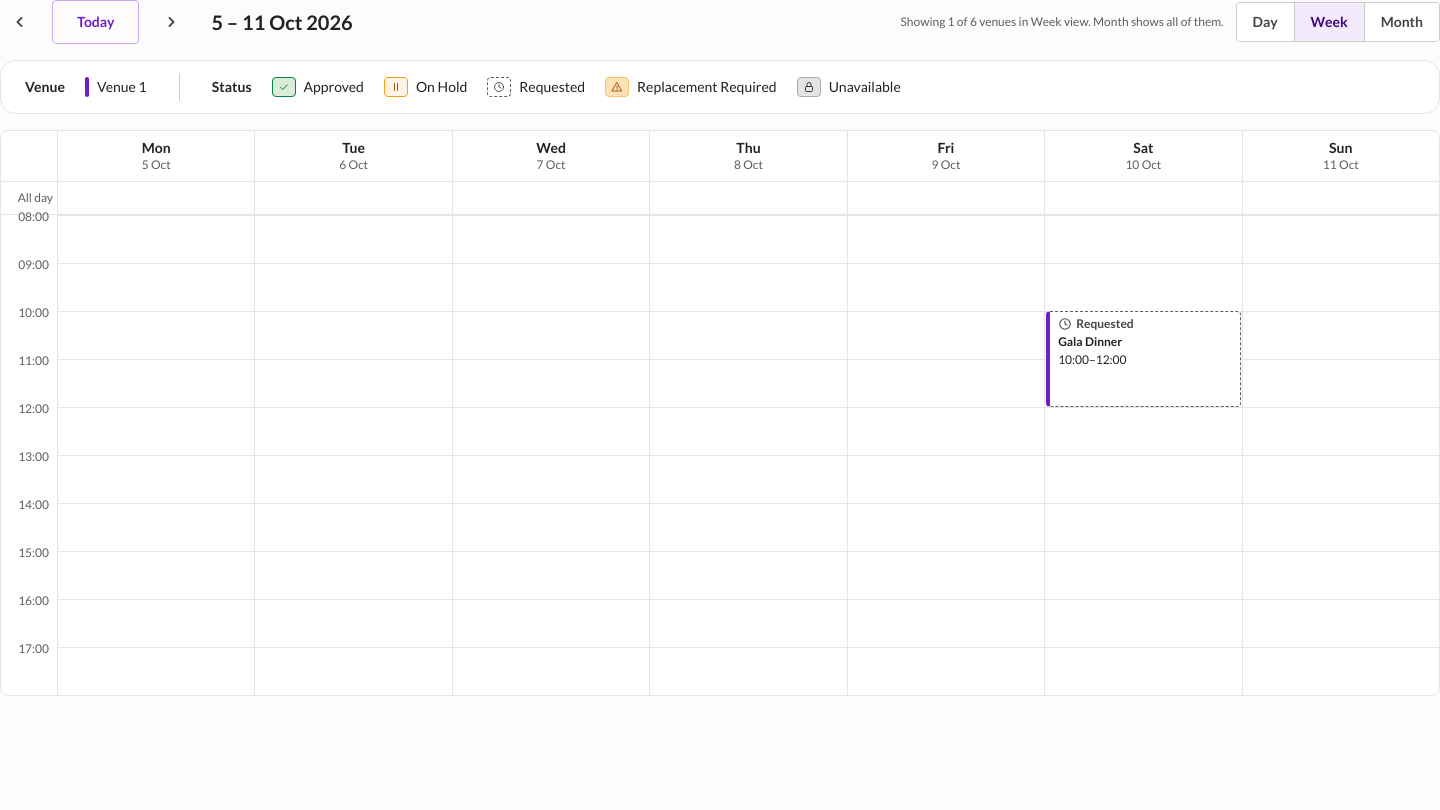
VenueCalendar — a coordinator's read-only use › hides Review in Requests and the attendance row when not reviewable
The image size is (1440, 810).
Click the button with class "entry".
click(1143, 359)  # box [1046, 311, 1240, 407]
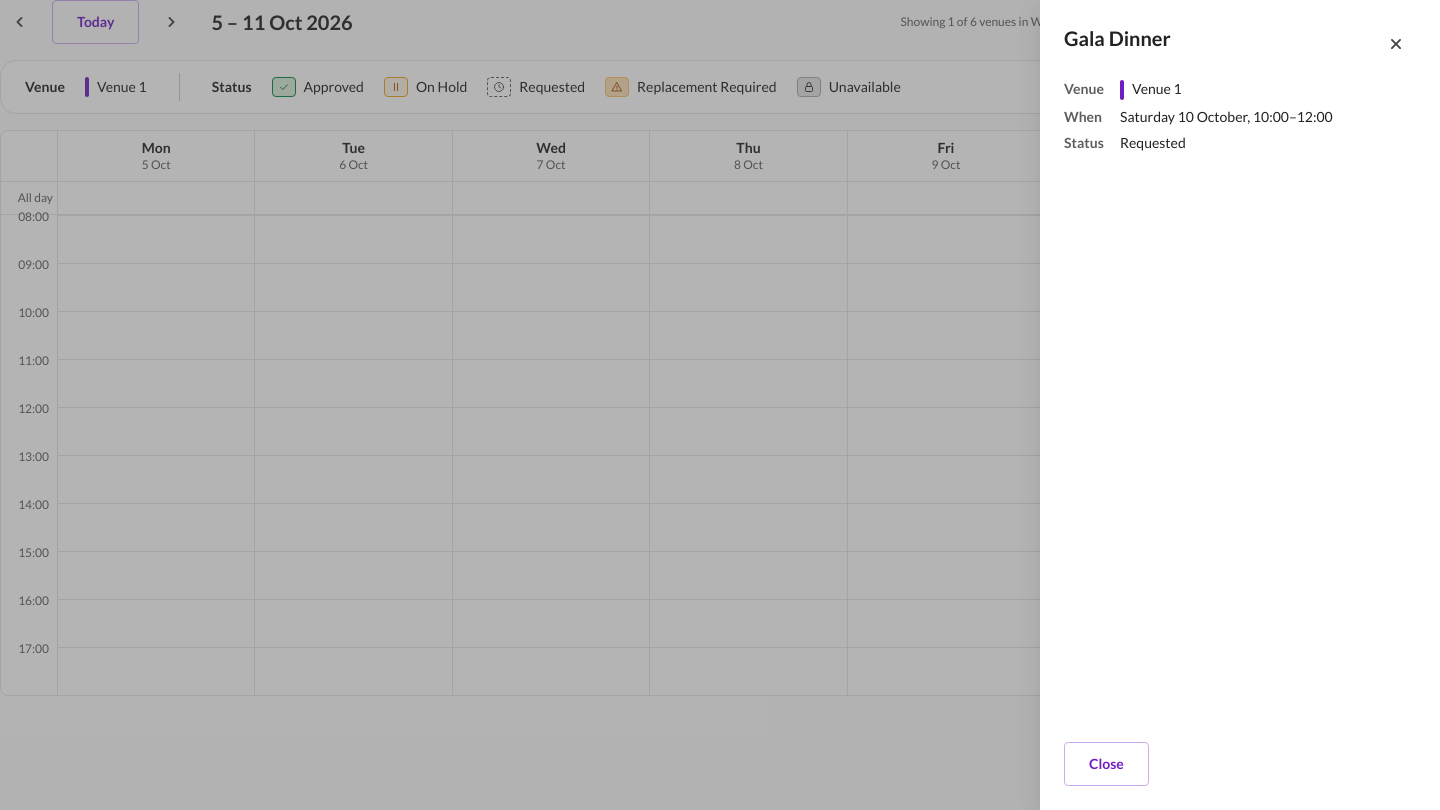
Result: the dialog is shown at [1040, 0, 1439, 809]
